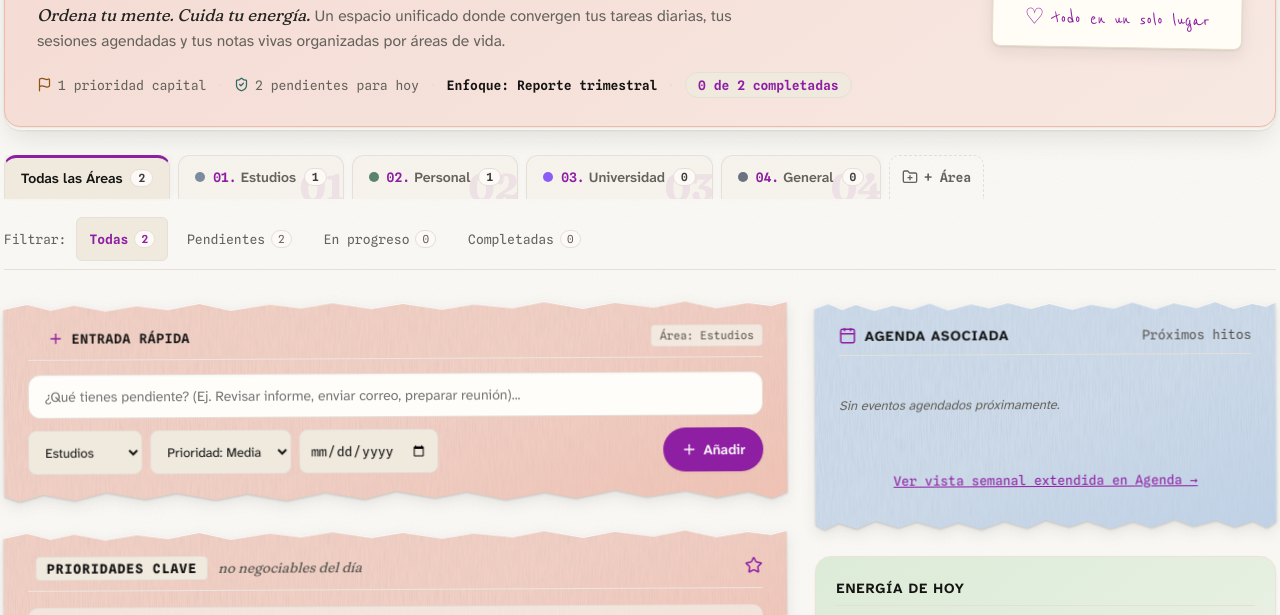
Test: TodoView › renderiza barra de áreas temáticas con conteos y permite filtrar por área
The image size is (1280, 615).
Expected: the text "Estudios" is shown, [241,168,296,186]
Expected: the text "Personal" is shown, [414,168,470,186]
Note: Filtra por Estudios
Click the button with aria-label "área estudios" at (261, 177), box [178,155,344,199]
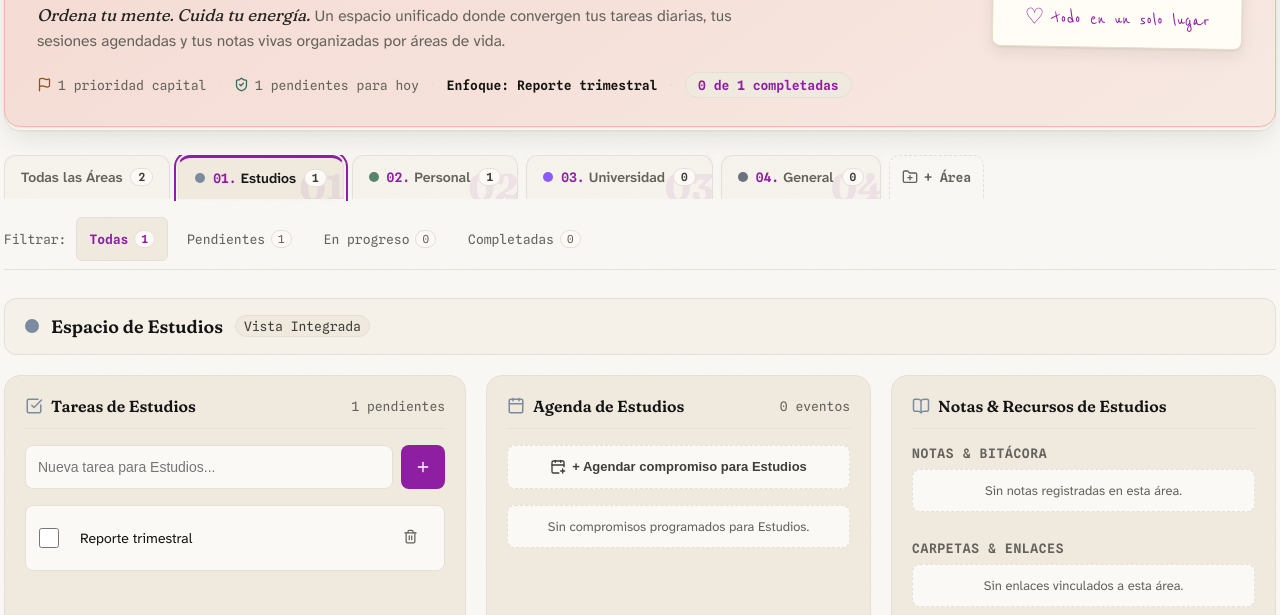
Expected: the text "Reporte trimestral" is shown, [80,529,192,547]
Note: Filtra por Personal
Click the button with aria-label "área personal" at (435, 177), box [352,155,518,199]
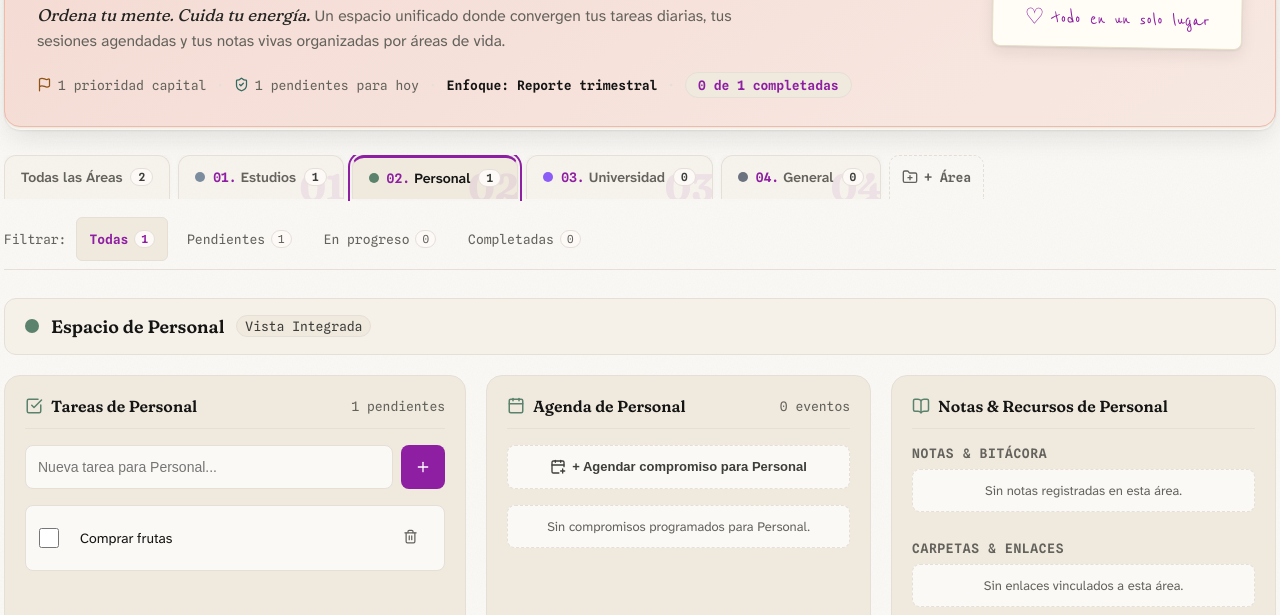
Result: the text "Comprar frutas" is shown at [80,529,172,547]
Note: Filtra por Todas las áreas
Click the button "Todas las Áreas 2" at (87, 177), box [4,155,170,199]
(page scrolled)
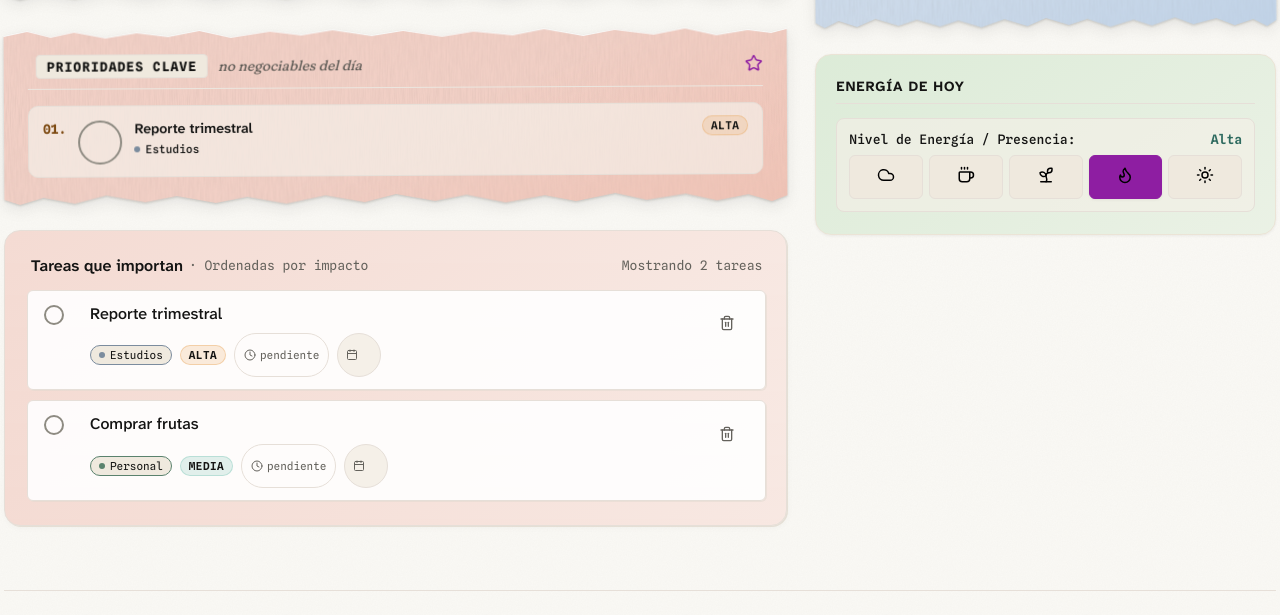
Result: the text "Comprar frutas" is shown at [90,413,198,436]
Result: the heading "Reporte trimestral" is shown at [134,119,253,137]
